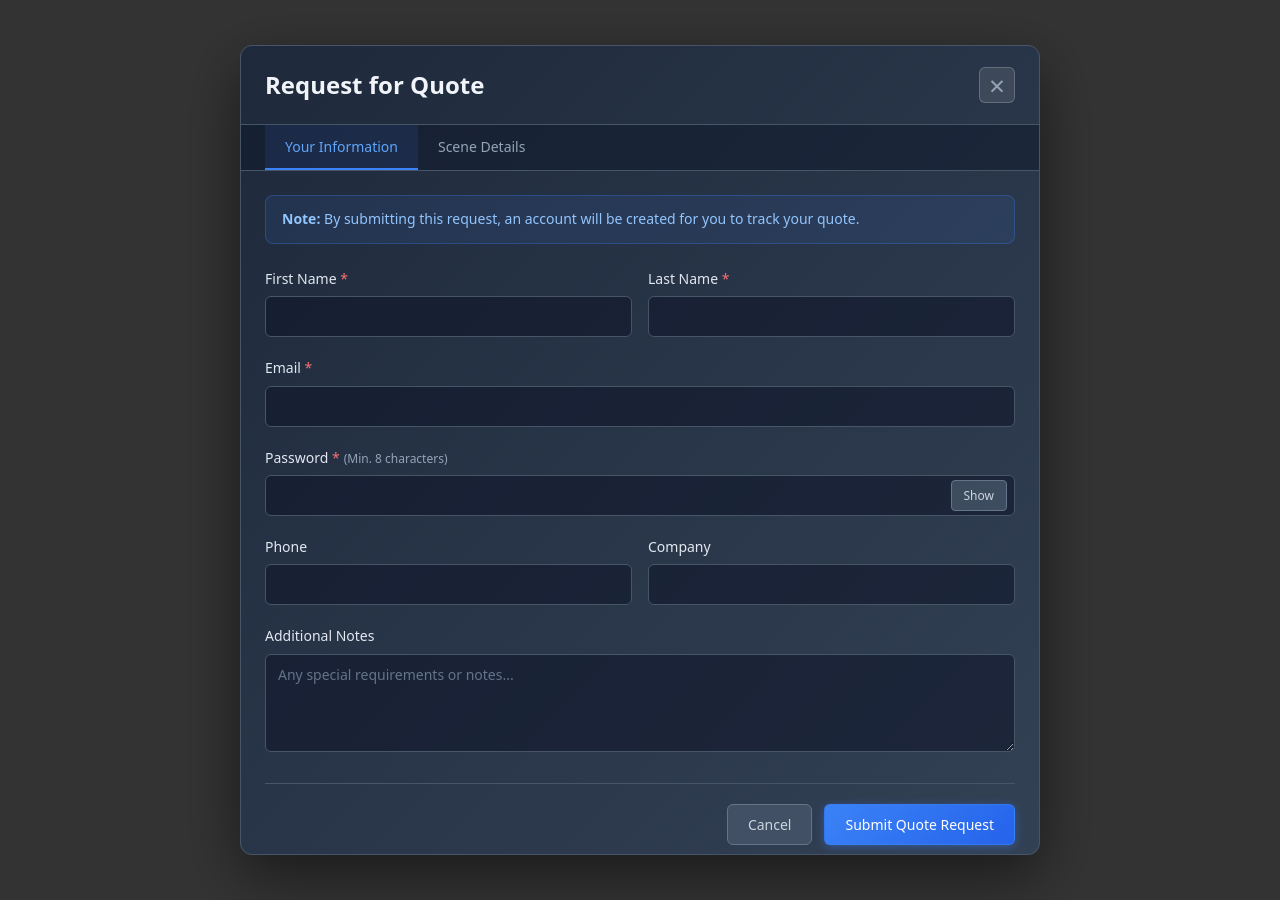
Test case: QuoteRequestModal Form Validation › should display error message when submission fails
Type "John" into the field labelled "First Name *" at [448, 317], box [265,296,632,337]
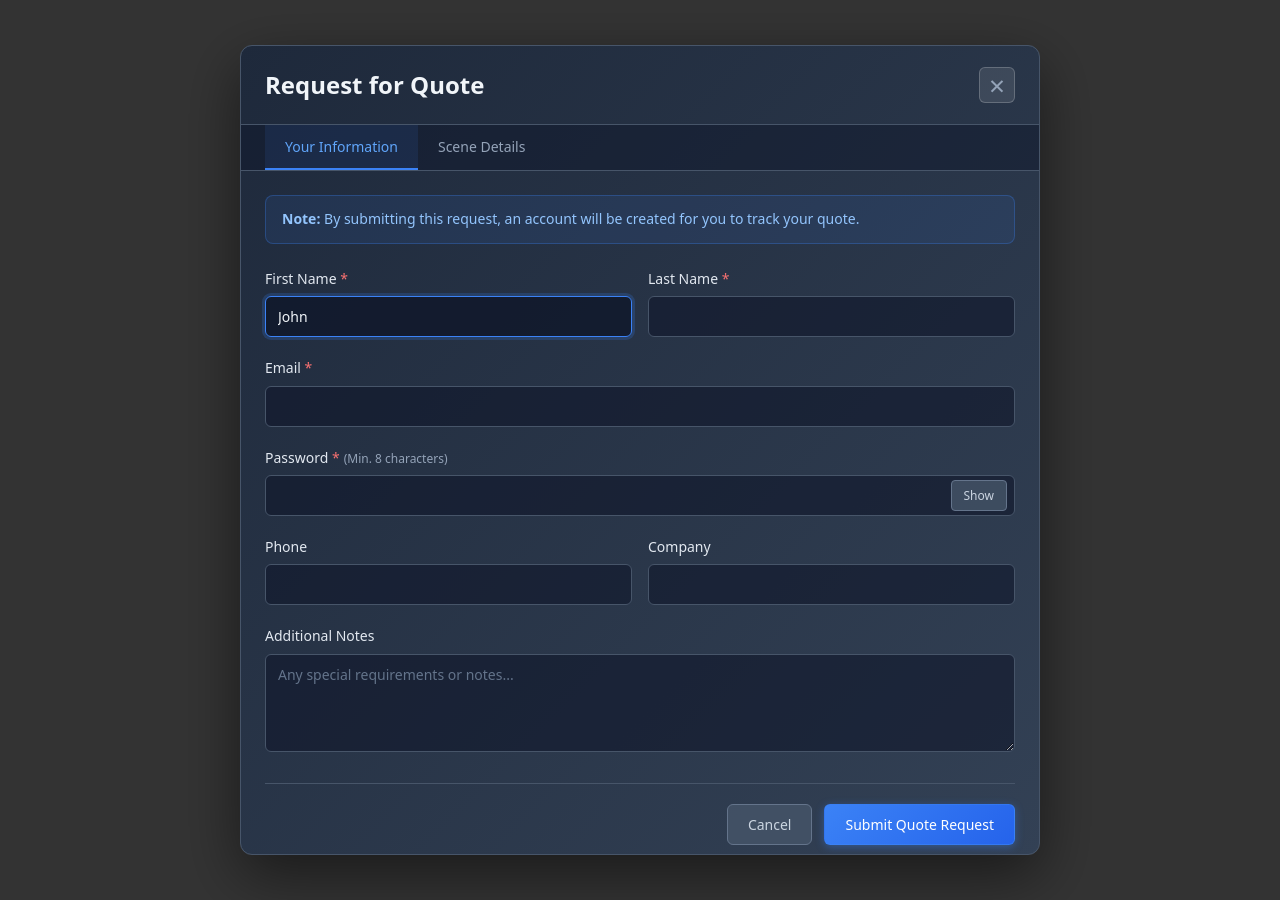
Type "Doe" into the field labelled "Last Name *" at [832, 317], box [648,296,1015,337]
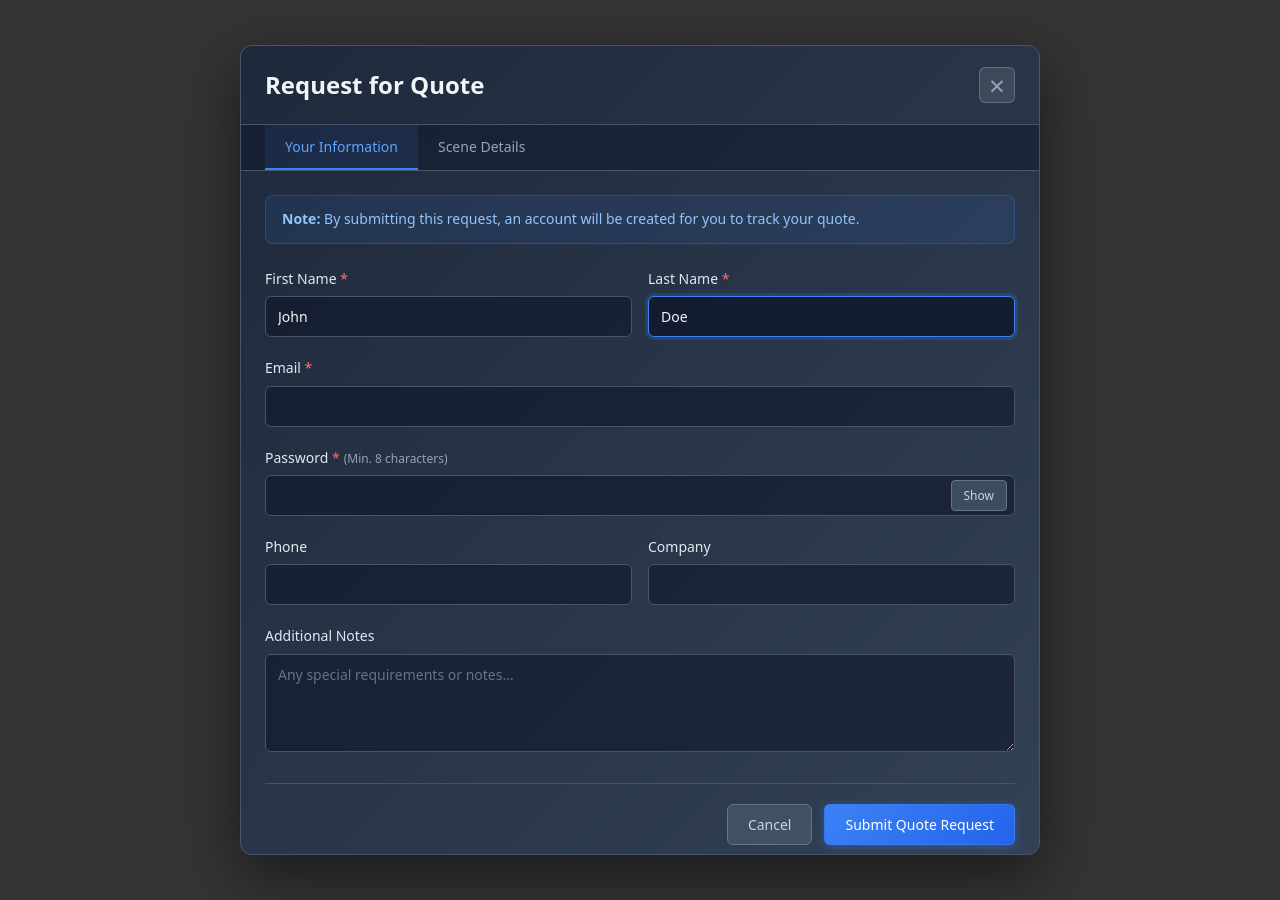
Type "john@example.com" into the field labelled "Email *" at [640, 406], box [265,386,1015,427]
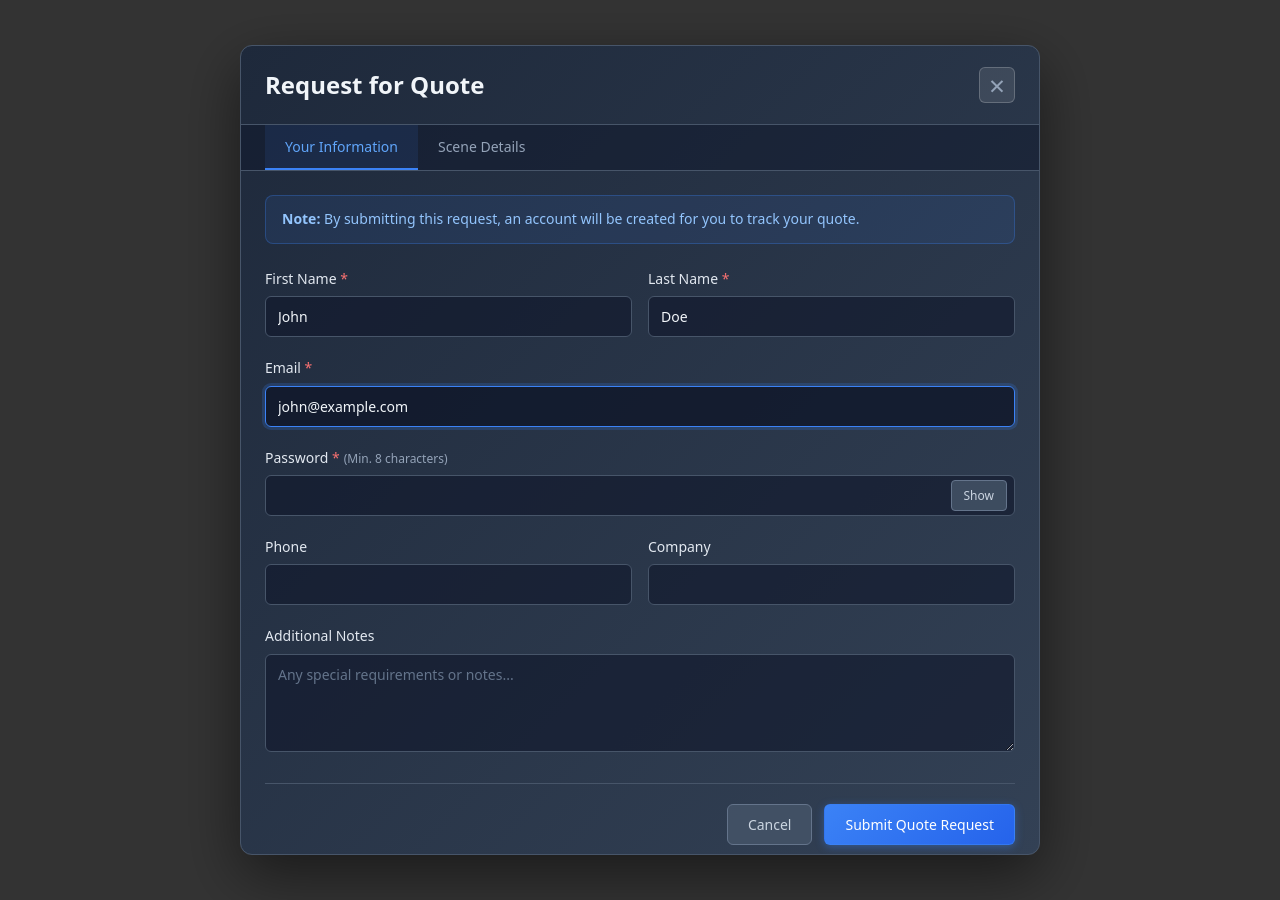
Type "validPassword123" into the password field labelled "Password *(Min. 8 characters)" at [640, 496], box [265,475,1015,516]
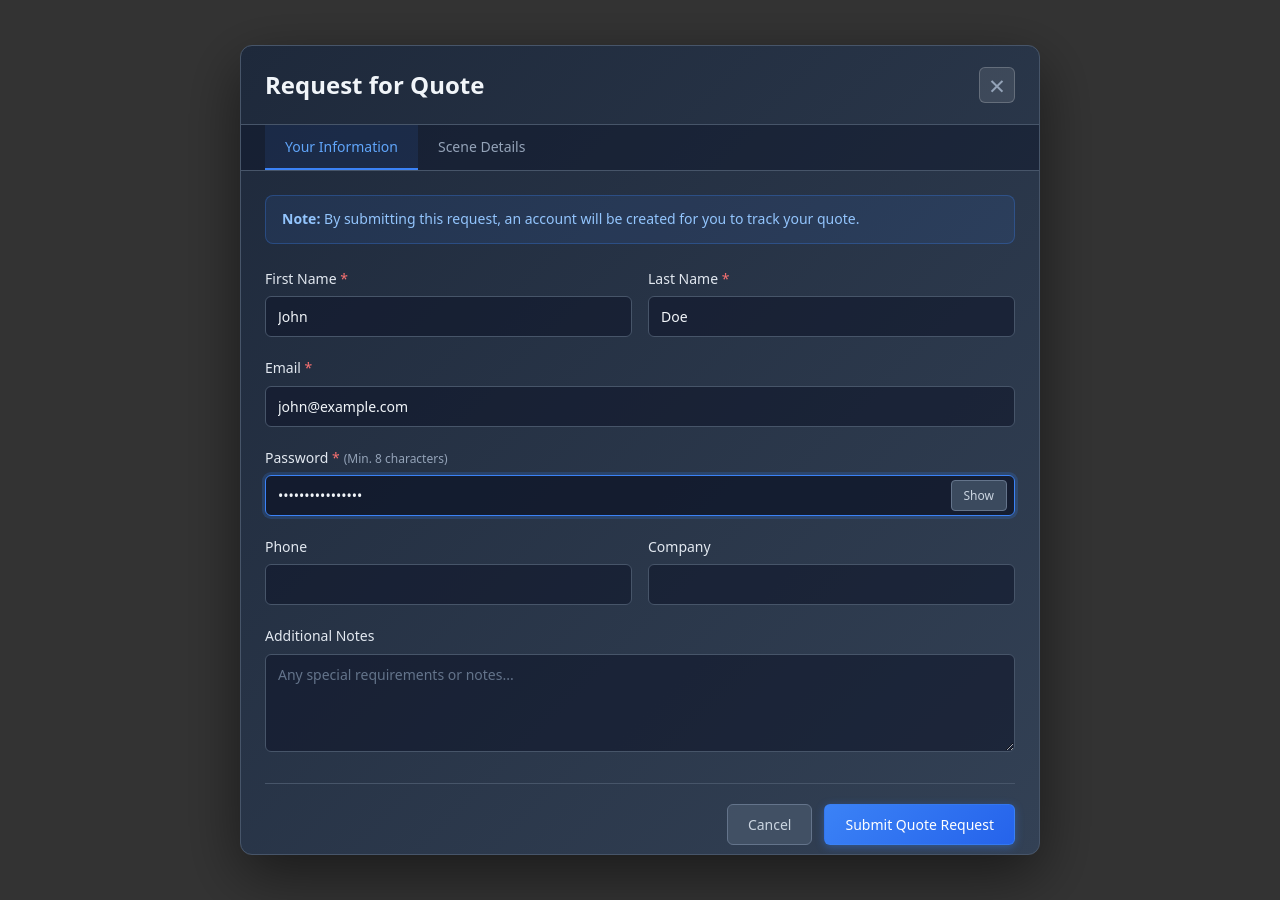
Click the button "Submit Quote Request" at [920, 825], box [824,804,1015,845]
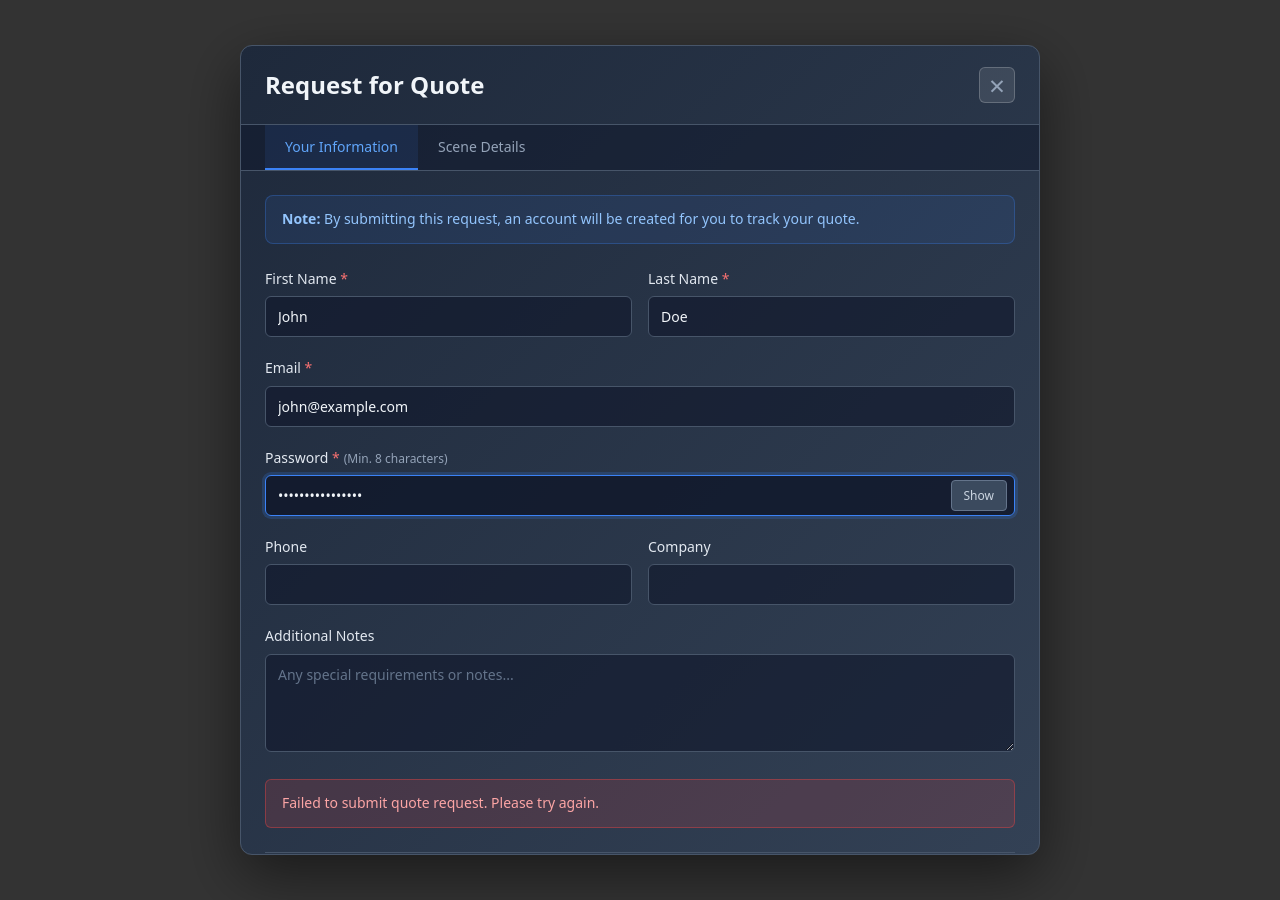
Check: the text "Failed to submit quote request. Please try again." is shown, box [265,779,1015,828]
